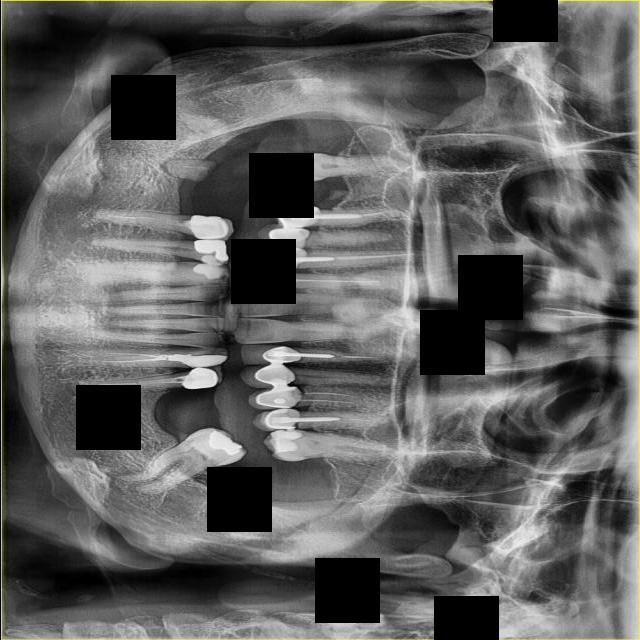71: (134, 216, 190, 229), (137, 375, 187, 389), (291, 212, 362, 221), (272, 415, 340, 424), (274, 254, 335, 263)
72: (175, 110, 229, 141), (162, 158, 217, 181), (162, 159, 217, 182), (326, 189, 350, 200)
74: (102, 351, 172, 362), (334, 251, 415, 260), (289, 278, 377, 283), (304, 391, 357, 398), (301, 399, 354, 403), (109, 213, 135, 220), (361, 212, 391, 217), (96, 383, 138, 385), (349, 418, 372, 421)
NucleOSS Implant: (204, 429, 243, 460), (193, 239, 228, 261)
Sterngold Implant: (257, 283, 286, 290)
Straumann Implant: (266, 426, 304, 454), (167, 353, 227, 369), (255, 266, 292, 285), (249, 290, 288, 304), (191, 264, 226, 279), (200, 254, 221, 266)
Zimmer Implant: (268, 198, 320, 230), (248, 245, 307, 271), (256, 223, 308, 252), (240, 363, 295, 389), (251, 406, 301, 434), (247, 387, 303, 411), (187, 215, 234, 242), (179, 364, 223, 391), (241, 345, 301, 364)
